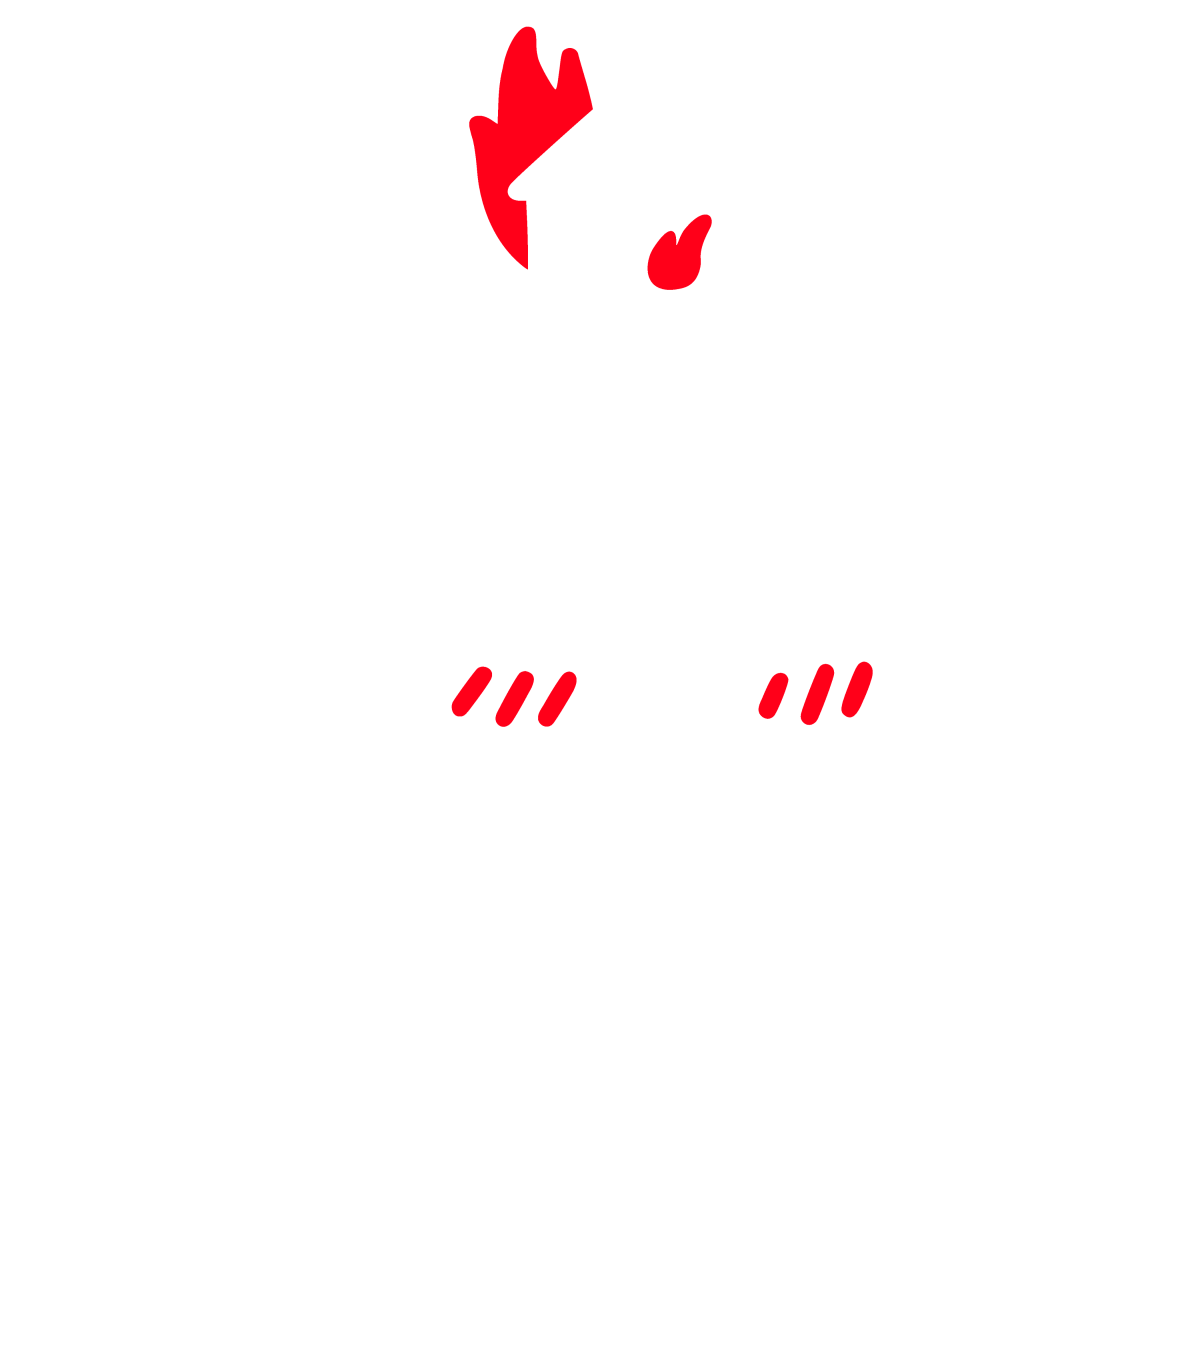design: (241, 1, 970, 1149)
